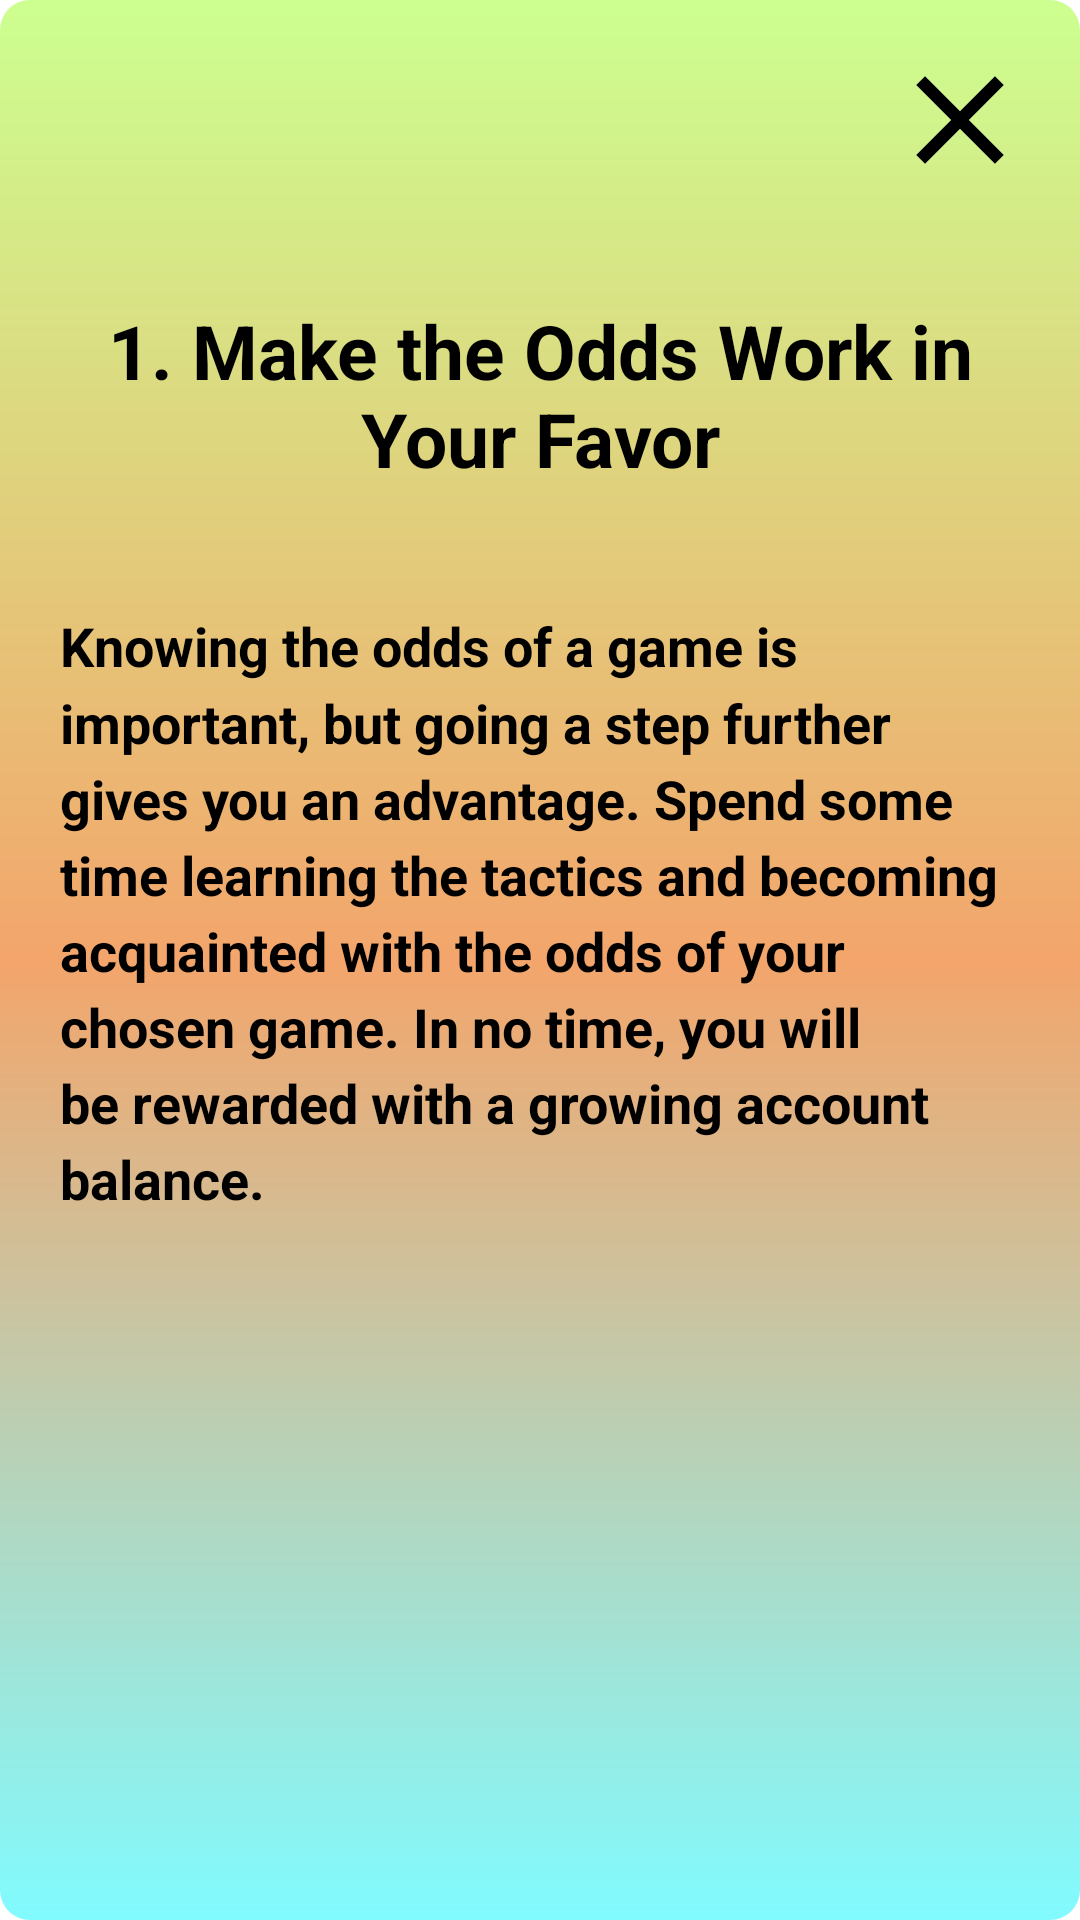

Point at icon controls on the screen. Image size 1080x1920, points as (x,y).
close: (960,120)
